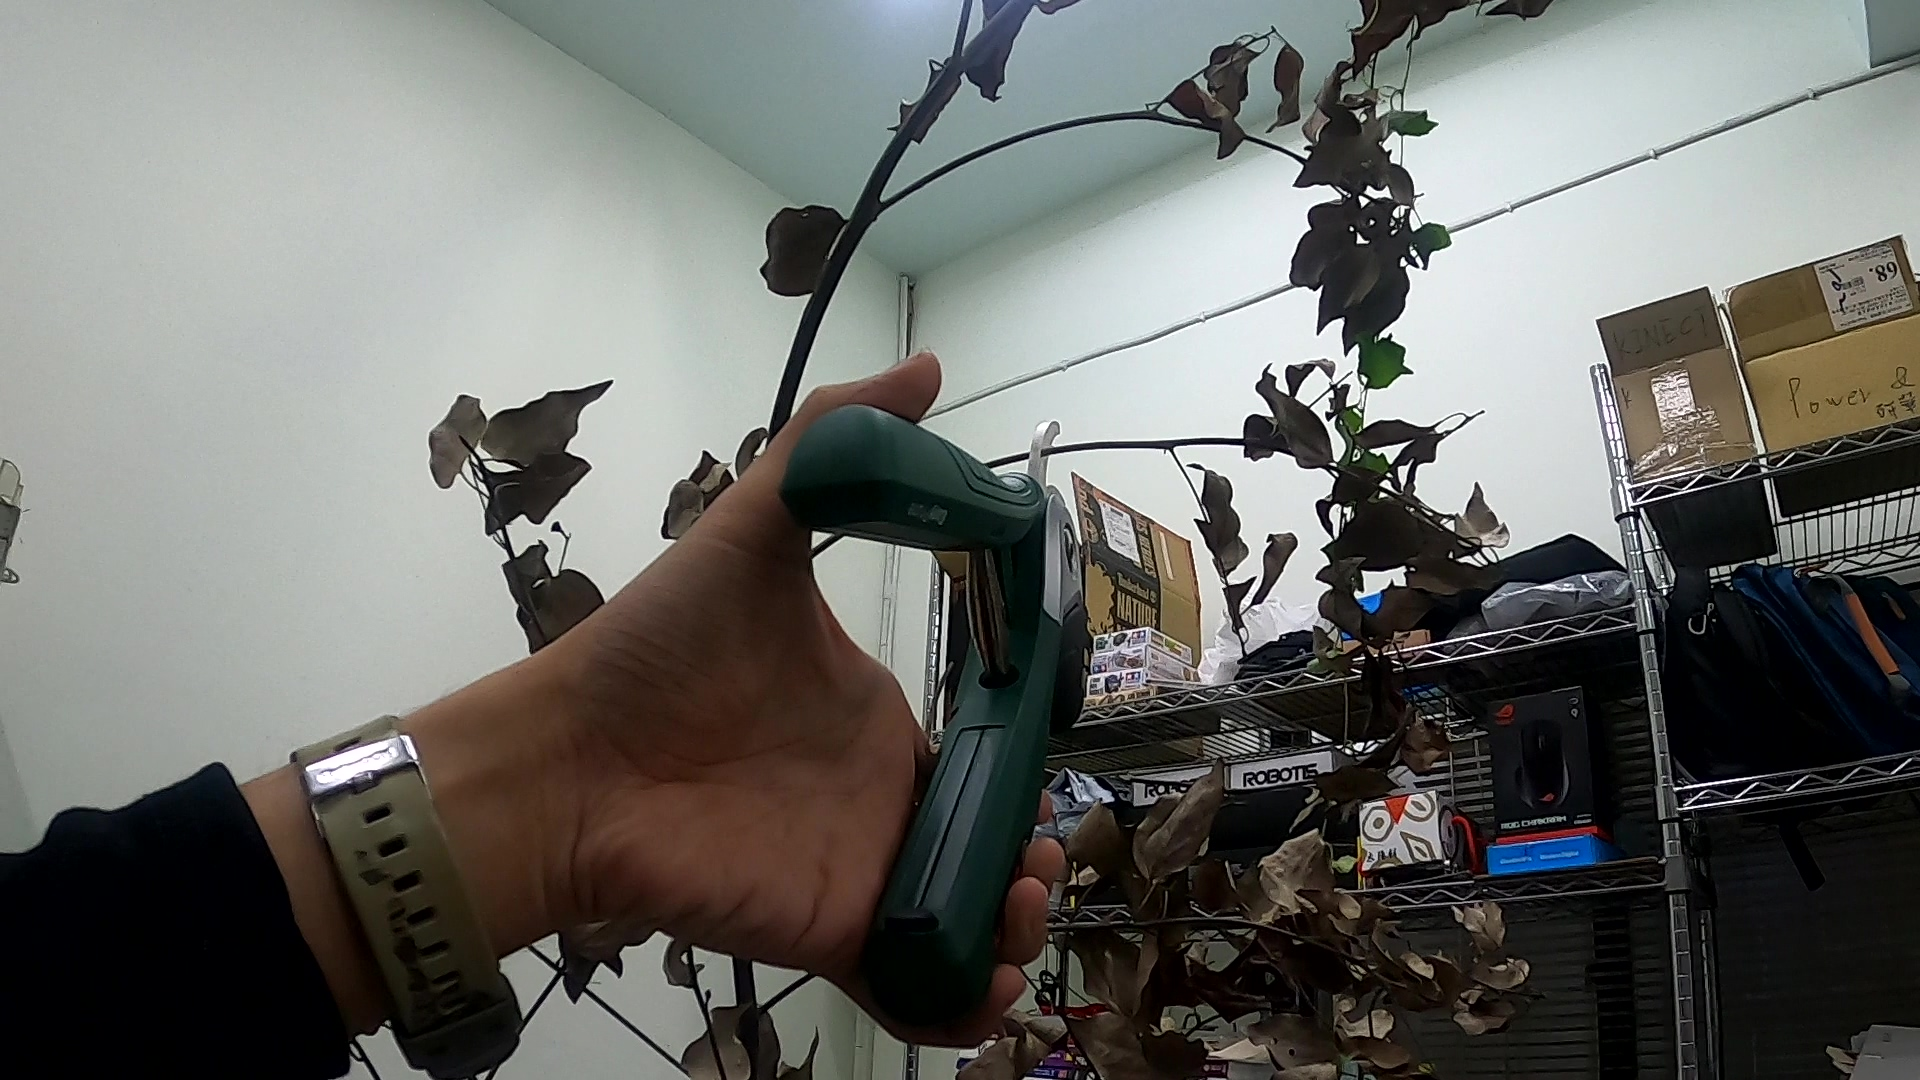ok: (779, 426, 1482, 1022)
scissors: (795, 392, 1100, 1015)
twig: (815, 371, 1524, 556), (880, 20, 1447, 225), (1046, 910, 1389, 980), (522, 945, 698, 1080), (459, 425, 555, 649), (484, 926, 609, 1080), (676, 945, 727, 1080), (765, 976, 816, 1029), (360, 1040, 394, 1080), (951, 3, 971, 54)
